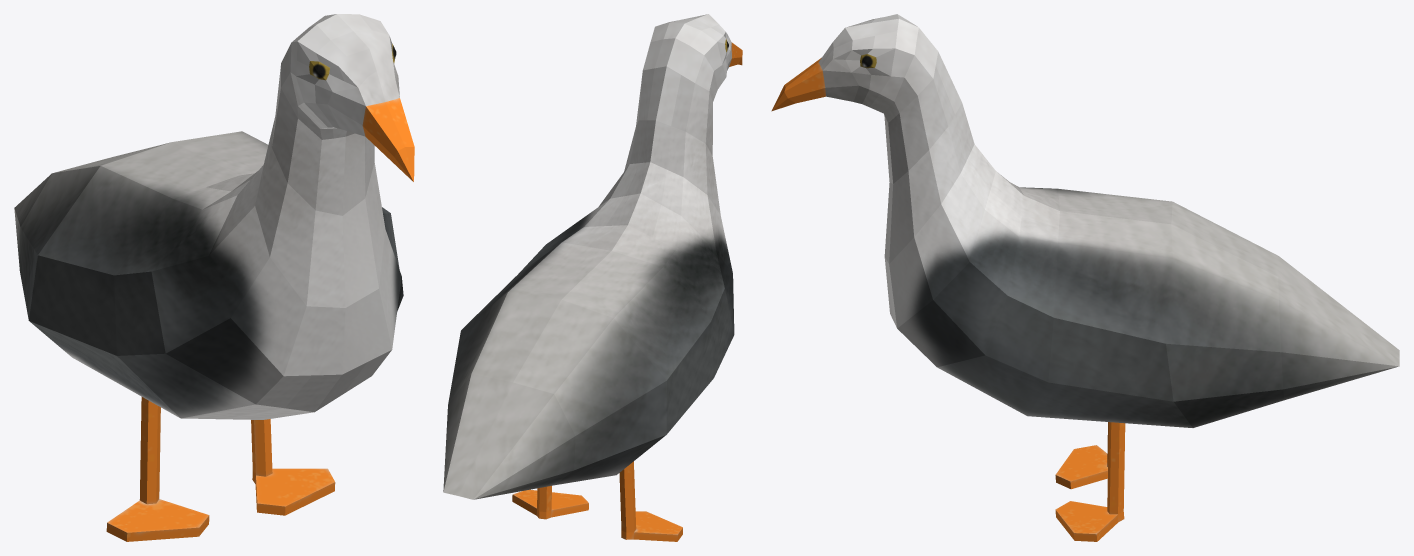
Rendered from bird.glb.
3 views of the same model, side by side, from view 1: azimuth 30°, elevation 25°; view 2: azimuth 150°, elevation 25°; view 3: azimuth 270°, elevation 25° (orthographic). The views are drawn at different scales.
Parts seen in each view (by area): view 1: body; view 2: body; view 3: body.
Boxes of the visible parts, box(x1,y1,x2,y2) form: body: box(14, 14, 414, 541); body: box(443, 14, 742, 541); body: box(771, 14, 1399, 541).
Bounding box in the file's own units: 1.37 × 2.69 × 3.18.
Materials: 1 (1 with a texture image).
